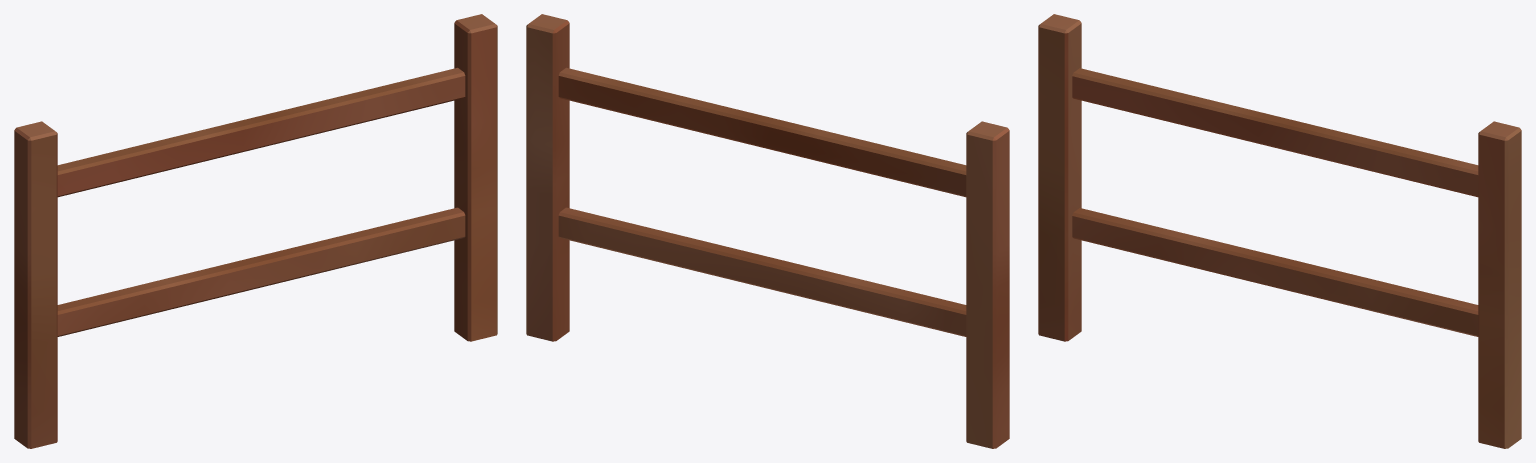
The model's file is fenceSimple.fbx.
The picture shows the model from 3 angles, left to right: view 1: azimuth 30°, elevation 25°; view 2: azimuth 150°, elevation 25°; view 3: azimuth 330°, elevation 25°; orthographic projection.
Parts seen in each view (by area): view 1: fence2.001; view 2: fence2.001; view 3: fence2.001.
Boxes of the visible parts, x1,y1,x2,y2 form: fence2.001: (14,14,497,448); fence2.001: (526,14,1009,448); fence2.001: (1038,14,1521,448).
Bounding box in the file's own units: 296 × 187 × 17.6.
1 material, 1 textured.
